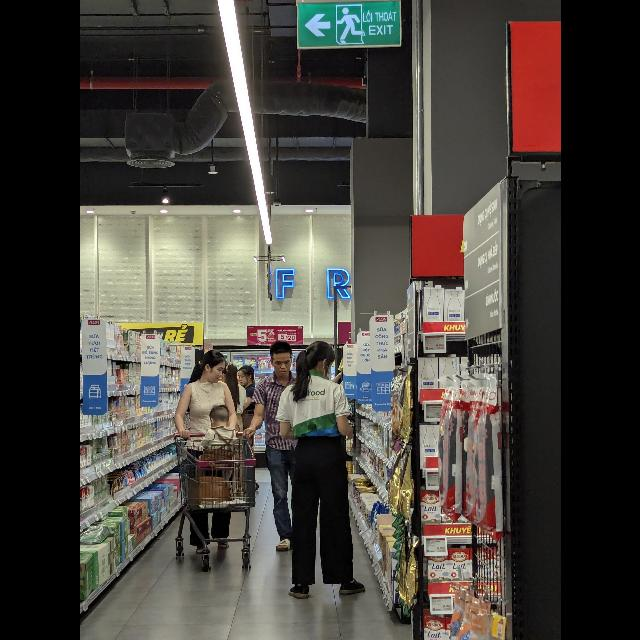exit: (294, 1, 396, 49)
